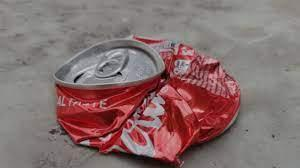metal: (53, 32, 245, 167)
